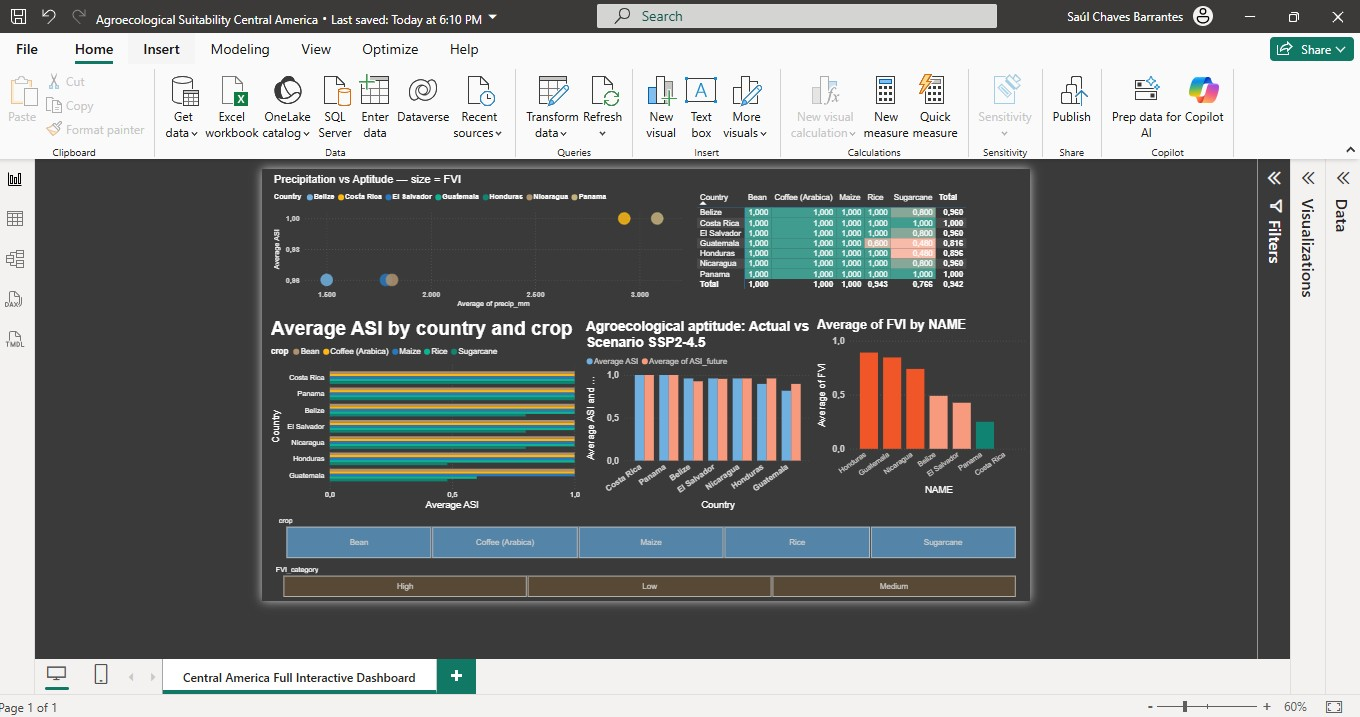

The dashboard page shown, as its layout file describes it:
{"tool":"powerbi","page":{"name":"Central America Full Interactive Dashboard","canvas":[1280,720],"ordinal":0},"visuals":[{"type":"clusteredBarChart","title":"Average ASI by country and crop ","fields":{"Category":["crop_suitability.NAME"],"Y":["master_countries.ASI Promedio"],"Series":["crop_suitability.crop"]},"box":[10,248.3,525,325],"z":1000},{"type":"pivotTable","fields":{"Rows":["crop_suitability.NAME"],"Columns":["crop_suitability.crop"],"Values":["master_countries.ASI Promedio"]},"box":[720,33.3,560,215],"z":2000},{"type":"clusteredColumnChart","title":"Agroecological aptitude: Actual vs Scenario SSP2-4.5","fields":{"Category":["crop_suitability.Country"],"Y":["master_countries.ASI Promedio","Avg(crop_suitability.ASI_future)"]},"box":[535,248.3,385,325],"z":3000},{"type":"slicer","fields":{"Values":["crop_suitability.crop"]},"box":[15,573.3,1265,81.7],"z":3001},{"type":"scatterChart","title":"Precipitation vs Aptitude — size = FVI","fields":{"Y":["master_countries.ASI Promedio"],"X":["Avg(environmental_variables.precip_mm)"],"Category":["master_countries.FVI"],"Series":["environmental_variables.NAME"]},"box":[15,6.7,705,230],"z":3002},{"type":"columnChart","fields":{"Category":["food_vulnerability.NAME"],"Y":["Avg(food_vulnerability.FVI)"]},"box":[920,248.3,360,300],"z":3003},{"type":"slicer","fields":{"Values":["food_vulnerability.FVI_category"]},"box":[10,655,1270,65],"z":3004}]}

Visuals, with their boxes on the page's 1280x720 design canvas (x1, y1, x2, y2). These are canvas units, not pixel positions in the 1360x717 screenshot, which may show the page scaled, cropped or inside an application window:
"Average ASI by country and crop " clusteredBarChart: <bbox>10, 248, 535, 573</bbox>
pivotTable - crop_suitability.NAME x crop_suitability.crop: <bbox>720, 33, 1280, 248</bbox>
"Agroecological aptitude: Actual vs Scenario SSP2-4.5" clusteredColumnChart: <bbox>535, 248, 920, 573</bbox>
slicer - crop_suitability.crop: <bbox>15, 573, 1280, 655</bbox>
"Precipitation vs Aptitude — size = FVI" scatterChart: <bbox>15, 7, 720, 237</bbox>
columnChart - food_vulnerability.NAME x Avg(food_vulnerability.FVI): <bbox>920, 248, 1280, 548</bbox>
slicer - food_vulnerability.FVI_category: <bbox>10, 655, 1280, 720</bbox>
